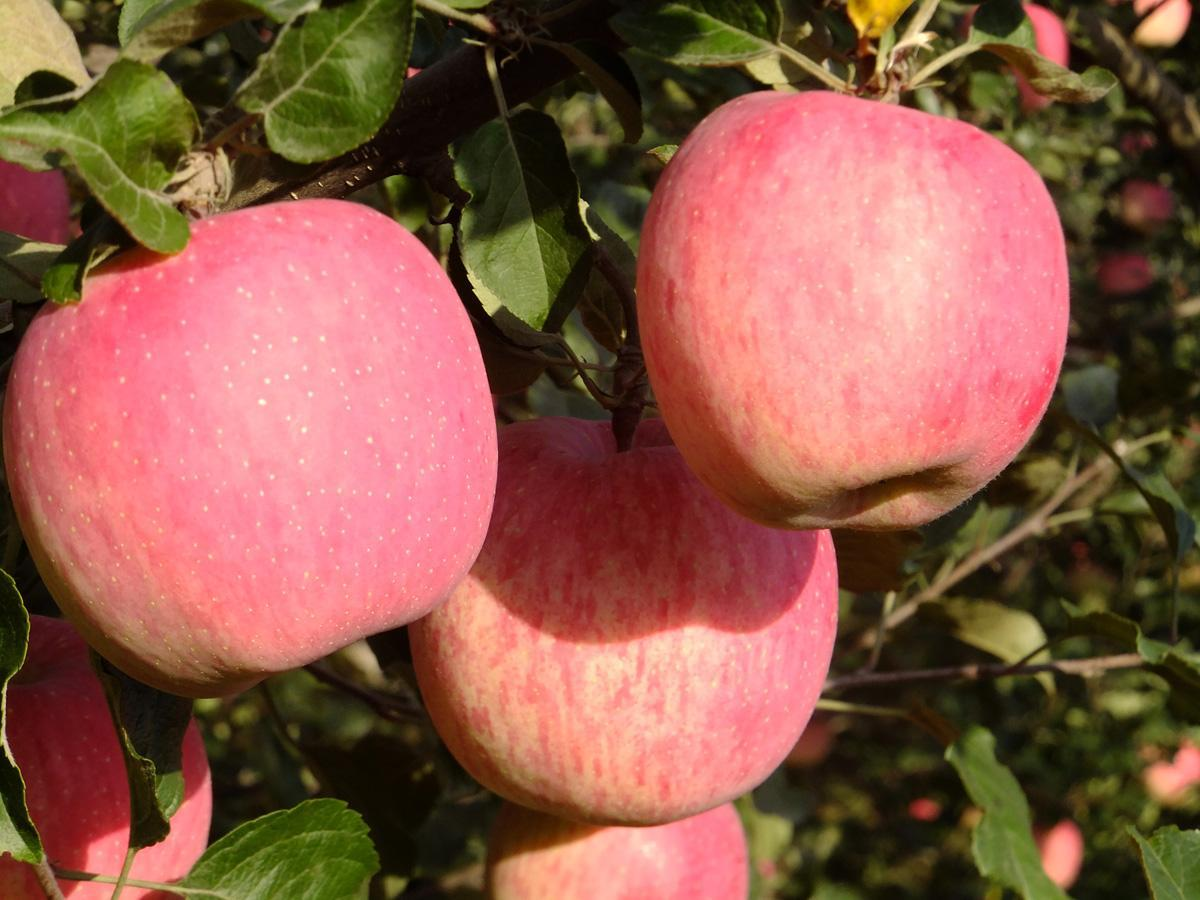apple: (6, 196, 501, 681), (628, 90, 1066, 530), (406, 413, 838, 827)
